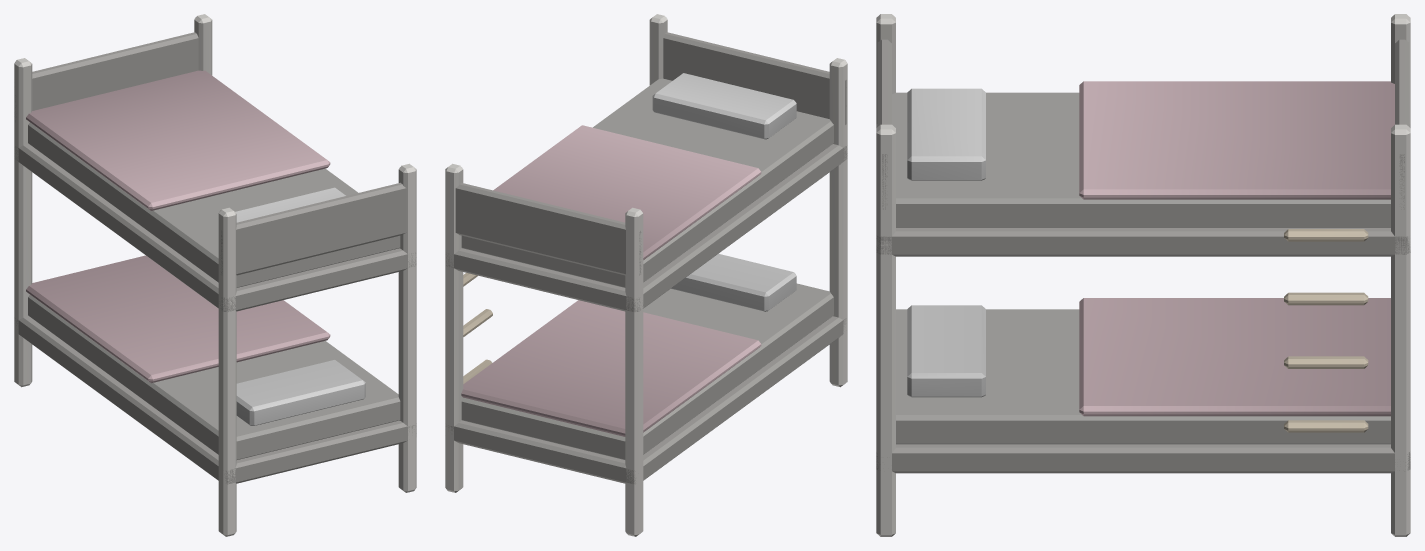
Rendered from furn_bunk_bed__white.glb.
The picture shows the model from 3 angles, left to right: view 1: azimuth 30°, elevation 25°; view 2: azimuth 150°, elevation 25°; view 3: azimuth 270°, elevation 25°; orthographic projection. The views are drawn at different scales.
Size of the model in its own units: 1.04 by 1.6 by 1.9.
